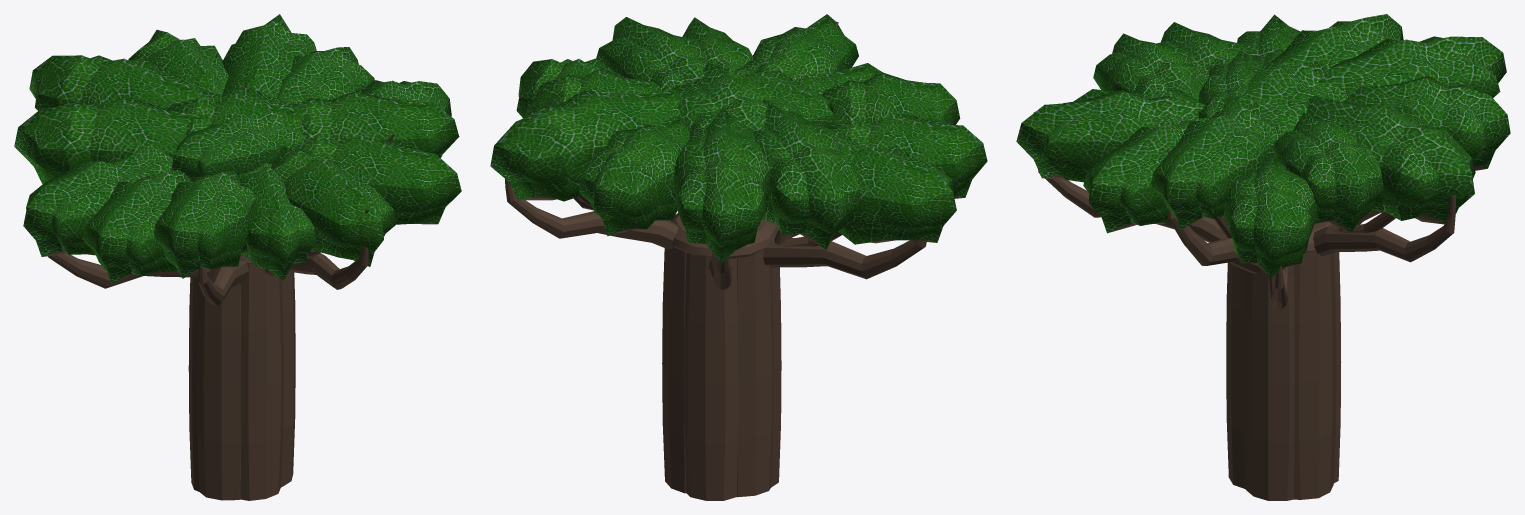
File: Africa_Tree_3.fbx
3 renders of one model, left to right at view 1: azimuth 30°, elevation 25°; view 2: azimuth 150°, elevation 25°; view 3: azimuth 270°, elevation 25°, orthographic. The views are drawn at different scales.
Parts seen in each view (by area): view 1: Tree_3; view 2: Tree_3; view 3: Tree_3.
Boxes of the visible parts, box(x1,y1,x2,y2) form: Tree_3: box(14, 14, 461, 500); Tree_3: box(490, 14, 987, 500); Tree_3: box(1016, 14, 1510, 500).
Size of the model in its own units: 9.91 by 8.69 by 9.51.
